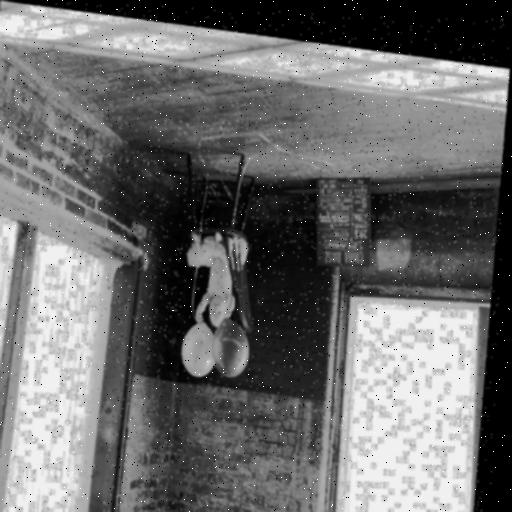balloon: (180, 315, 219, 373), (214, 317, 251, 370)
